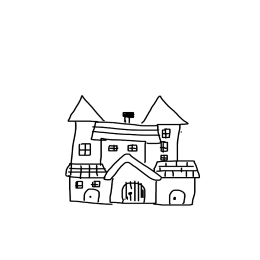bottom_placed_house: (2, 1, 260, 260)
chimney: (118, 107, 139, 127)
closed_window: (76, 141, 96, 160), (158, 126, 173, 139), (106, 144, 121, 153), (127, 144, 139, 155)
door: (119, 179, 148, 209), (165, 189, 188, 213), (82, 186, 104, 207)
roof: (91, 117, 162, 146), (104, 153, 165, 183)
wall: (107, 165, 159, 208)
